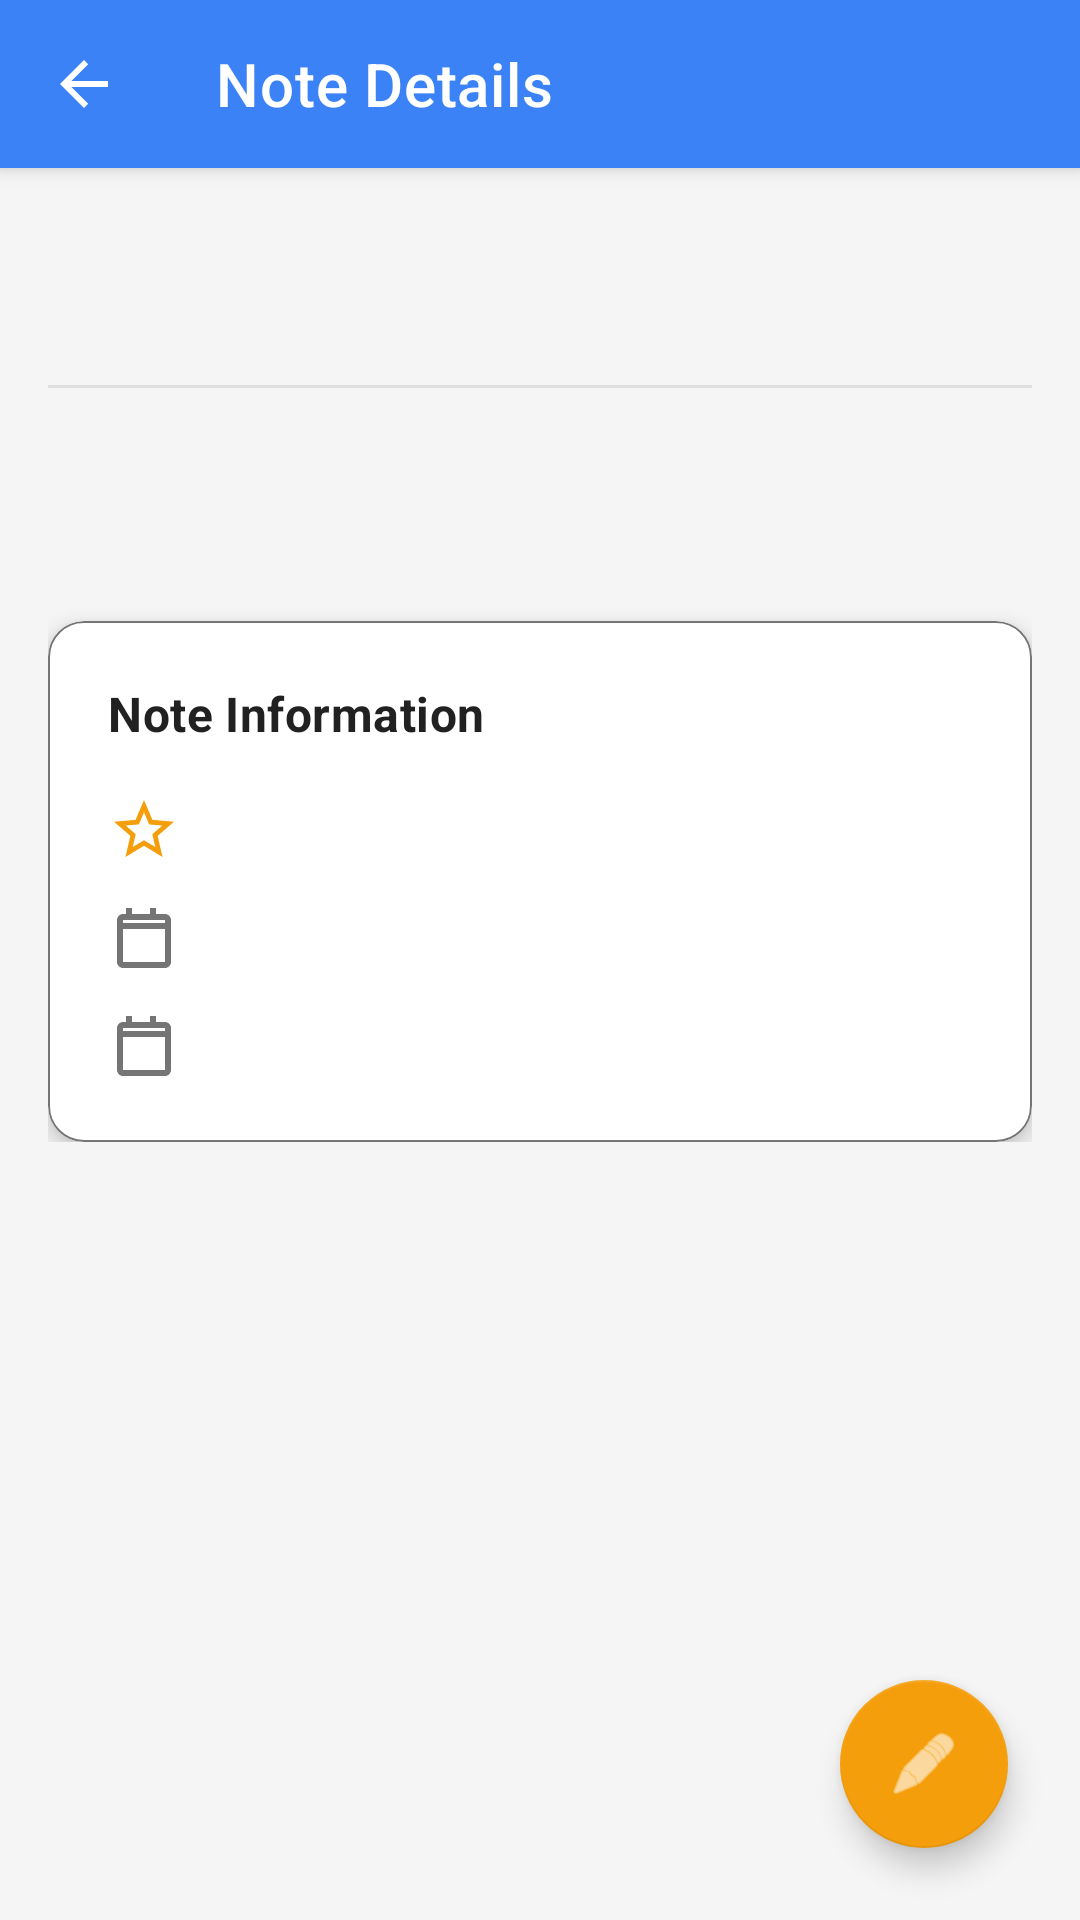

Icon bounding boxes for this 1080*1920 phone screenshot, format detection(x1, y1, x2, y2):
Bookmark Icon: detection(114, 800, 174, 857)
Created At Icon: detection(117, 908, 171, 968)
Edit Note: detection(840, 1680, 1008, 1848)
Updated At Icon: detection(117, 1016, 171, 1076)
